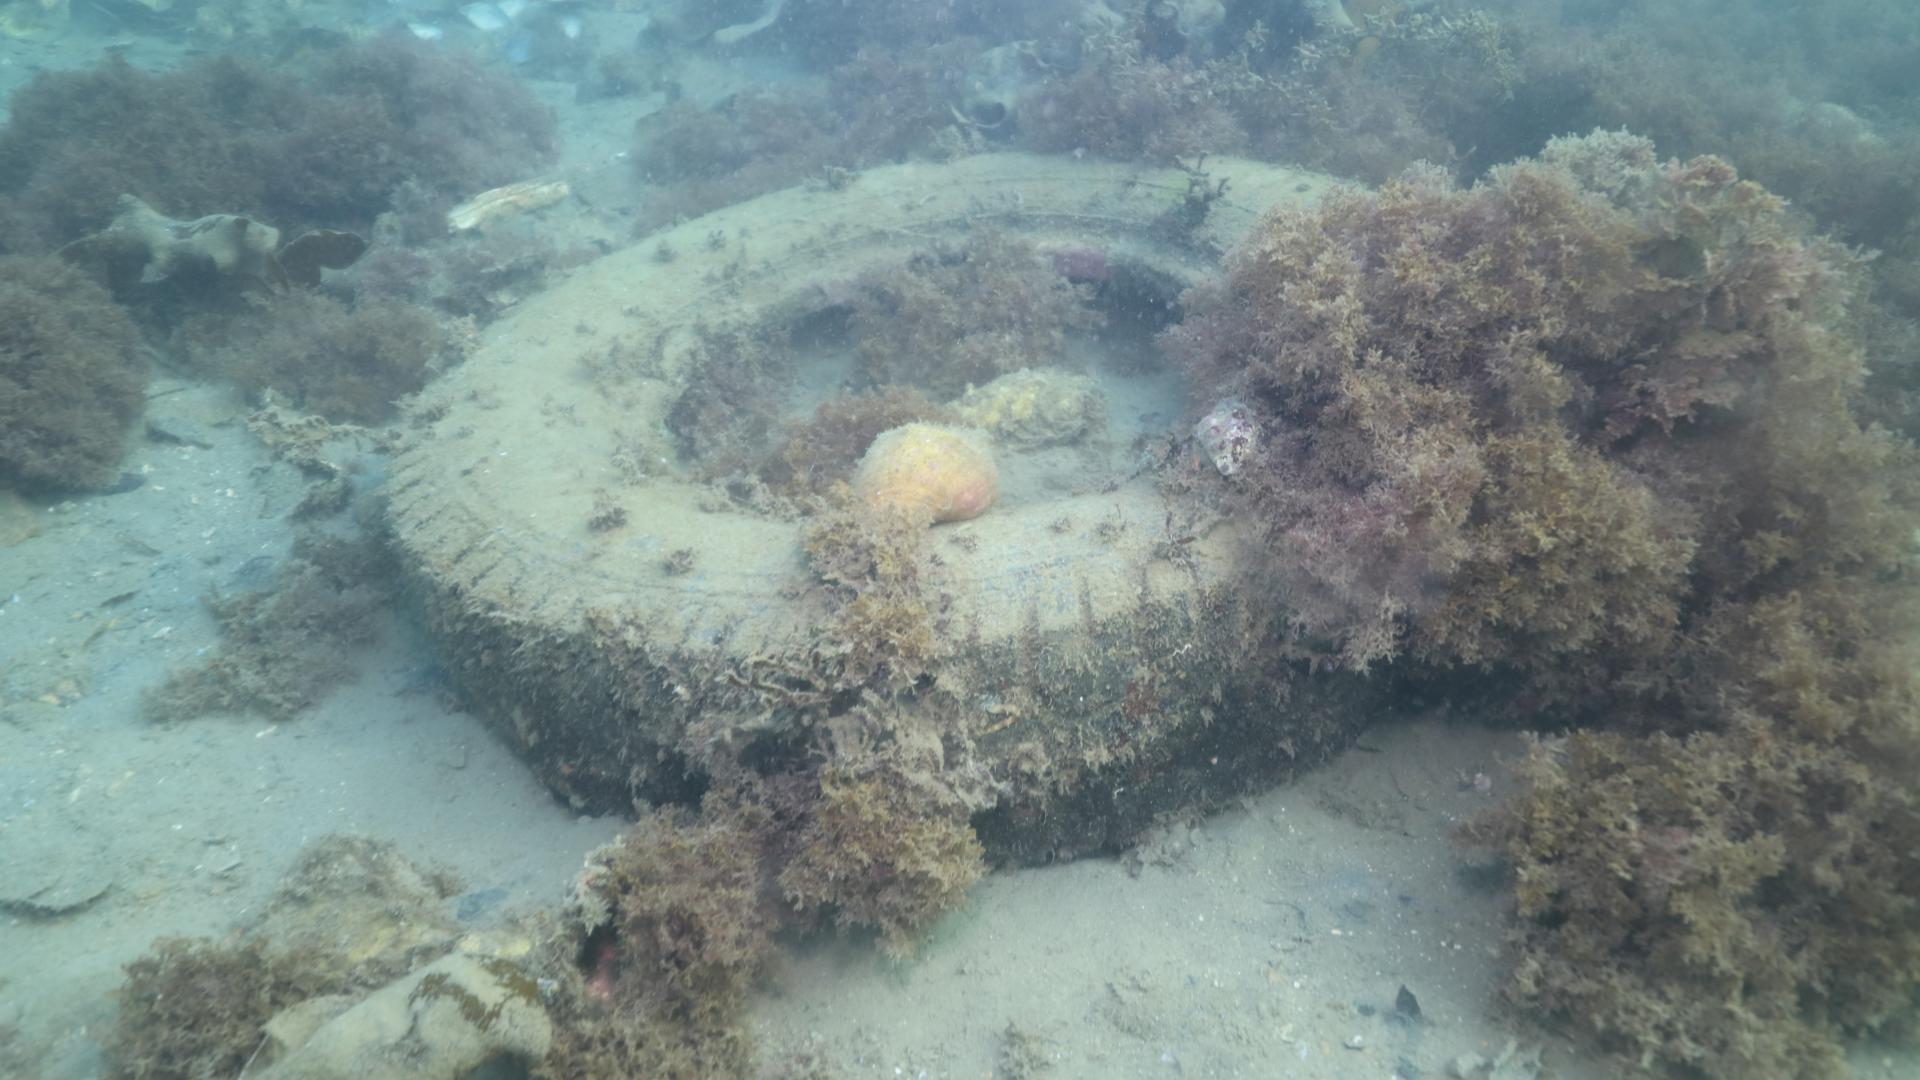tire: (372, 142, 1365, 865)
